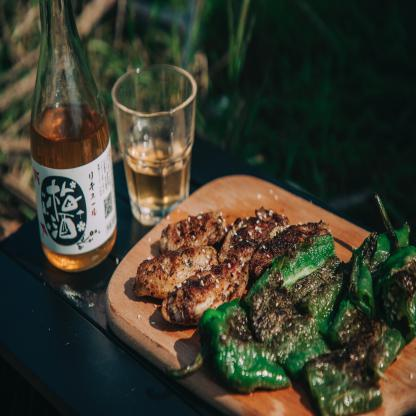Carne: (164, 243, 244, 329), (251, 217, 330, 283), (216, 204, 290, 264), (137, 243, 215, 297), (161, 206, 226, 252)
